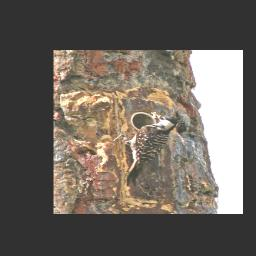Woodpecker: (113, 113, 178, 186)
